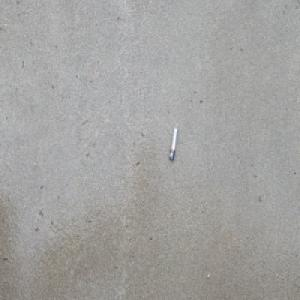Battery: (170, 127, 178, 161)
